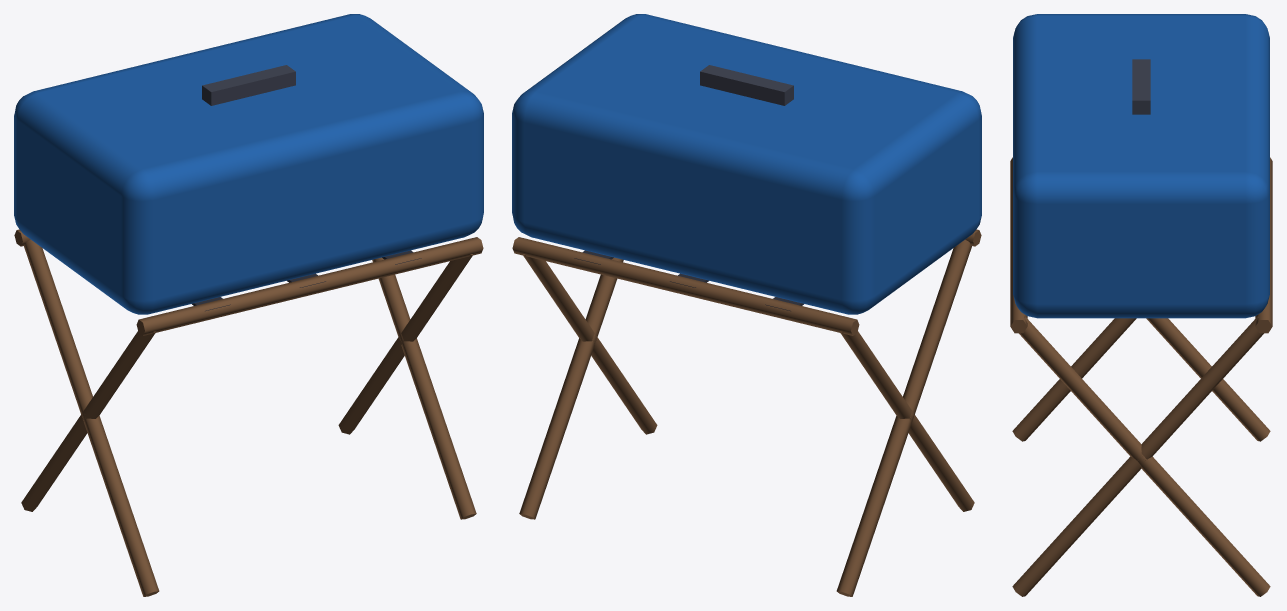
Rendered from hsp-005.glb.
3 renders of one model, left to right at view 1: azimuth 30°, elevation 25°; view 2: azimuth 150°, elevation 25°; view 3: azimuth 270°, elevation 25°, orthographic.
Visible parts, largest first — view 1: airline_blue, walnut, dark_steel; view 2: airline_blue, walnut, dark_steel; view 3: airline_blue, walnut, dark_steel.
Boxes of the visible parts, x1,y1,x2,y2 form: airline_blue: (14,14,483,314); walnut: (14,229,483,596); dark_steel: (202,65,295,105); airline_blue: (512,14,981,314); walnut: (512,229,981,596); dark_steel: (700,65,793,105); airline_blue: (1013,14,1269,318); walnut: (1010,157,1272,596); dark_steel: (1132,59,1150,114).
Bounding box in the file's own units: 0.68 × 0.7899 × 0.428.
